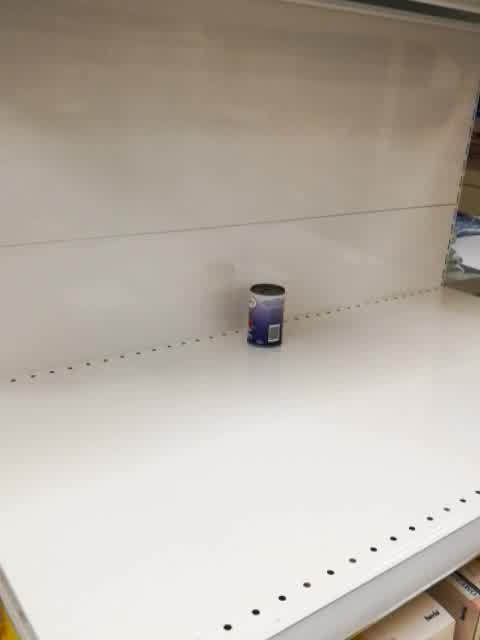sardine: (247, 281, 286, 349)
